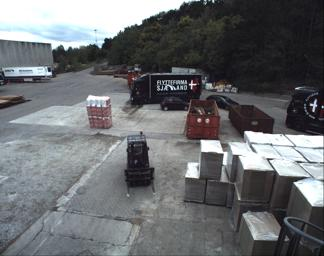rockwool_batts: (83, 94, 112, 127)
